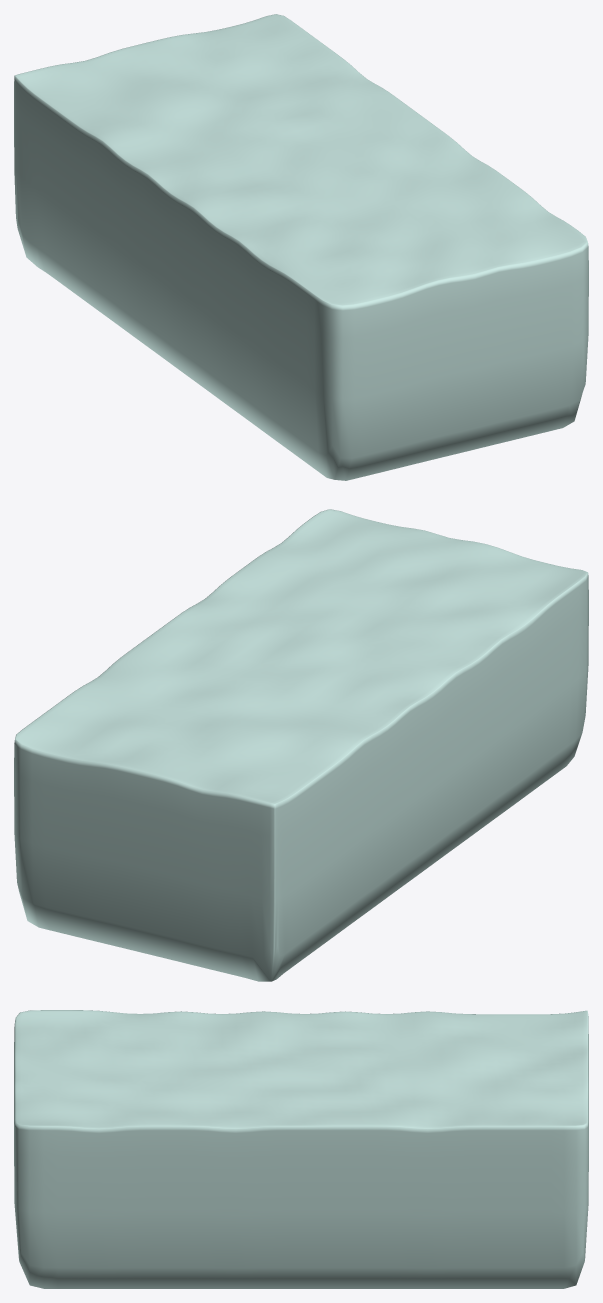
The model's file is SadeceDeniz2.fbx.
The picture shows the model from 3 angles, top to bottom: view 1: azimuth 30°, elevation 25°; view 2: azimuth 150°, elevation 25°; view 3: azimuth 270°, elevation 25°; orthographic projection. The views are drawn at different scales.
Parts seen in each view (by area): view 1: Plane.003; view 2: Plane.003; view 3: Plane.003.
Part boxes in pixels (x1=…): Plane.003: x1=14, y1=14, x2=588, y2=480; Plane.003: x1=14, y1=509, x2=588, y2=981; Plane.003: x1=14, y1=1010, x2=588, y2=1288.
Bounding box in the file's own units: 1175 × 805 × 2444.
